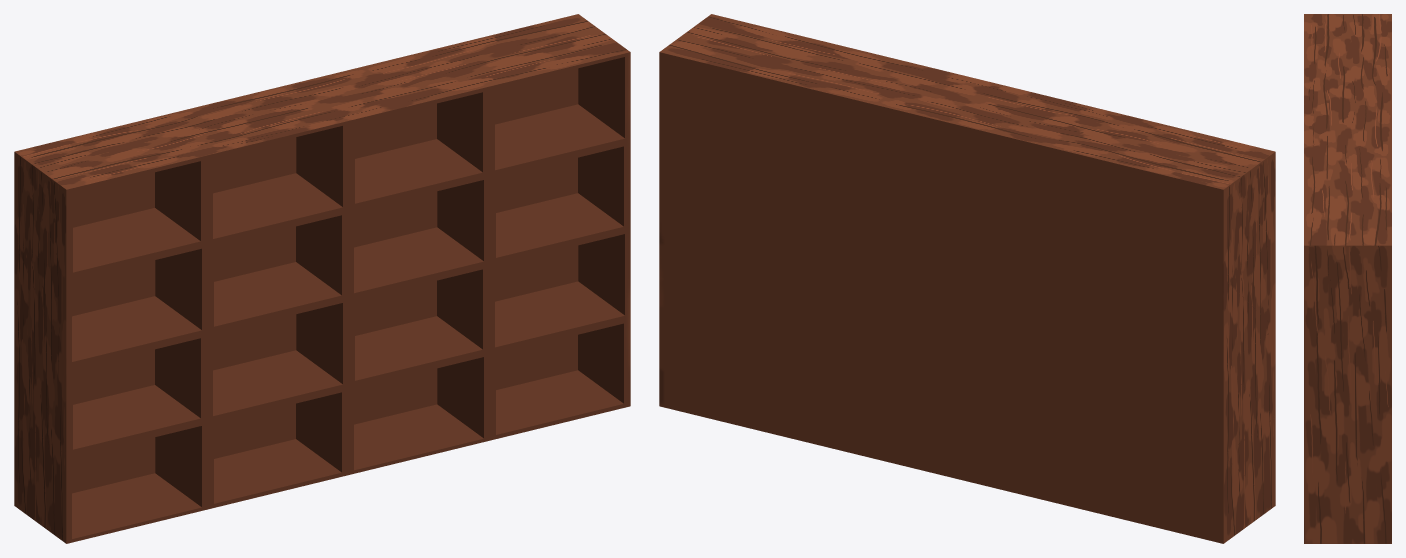
File: Mueble.fbx
The picture shows the model from 3 angles, left to right: view 1: azimuth 30°, elevation 25°; view 2: azimuth 150°, elevation 25°; view 3: azimuth 270°, elevation 25°; orthographic projection. The views are drawn at different scales.
Parts seen in each view (by area): view 1: Cube.033; view 2: Cube.033; view 3: Cube.033.
Boxes of the visible parts, <box> form: Cube.033: <box>14,14,630,543</box>; Cube.033: <box>659,14,1275,543</box>; Cube.033: <box>1304,14,1391,543</box>.
Size of the model in its own units: 5000 by 3000 by 800.
Materials: 1 (1 with a texture image).
